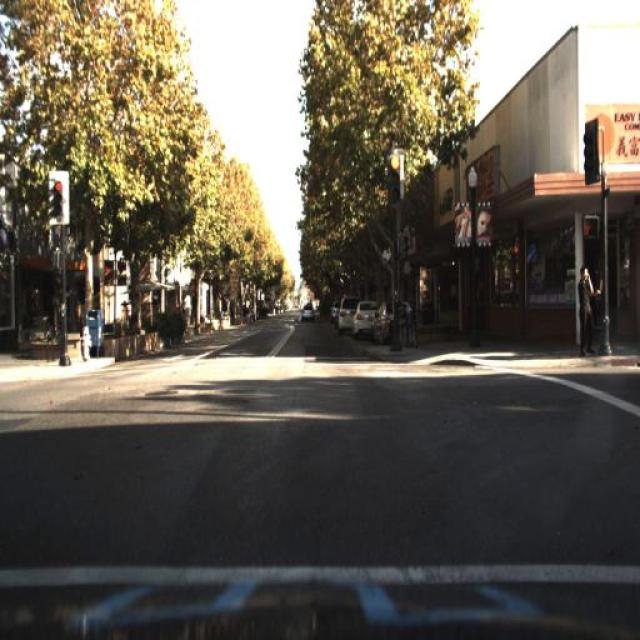car: (371, 299, 413, 346), (352, 300, 381, 350), (334, 289, 360, 340), (353, 305, 377, 335), (299, 300, 316, 330), (339, 296, 350, 332)
trafficLight: (582, 266, 606, 366), (576, 260, 598, 360), (388, 298, 406, 364), (58, 294, 72, 342)
trafficLight-RedLeft: (386, 150, 402, 206), (50, 173, 65, 225)
